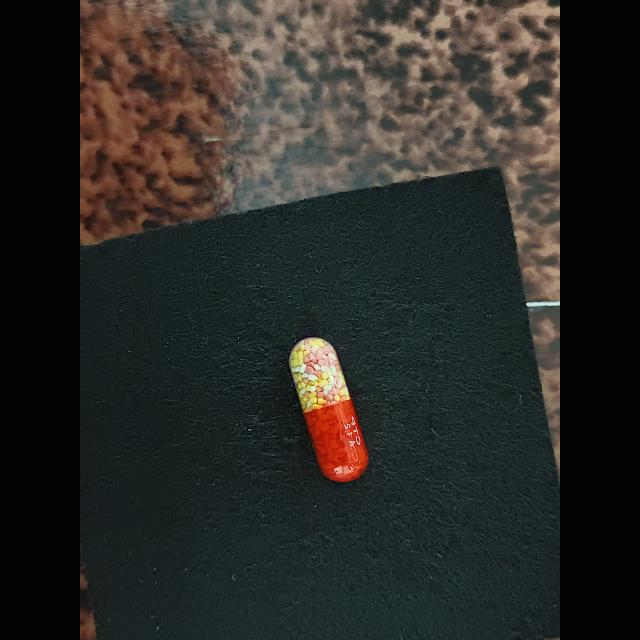Intact Capsule: (289, 337, 369, 482)
